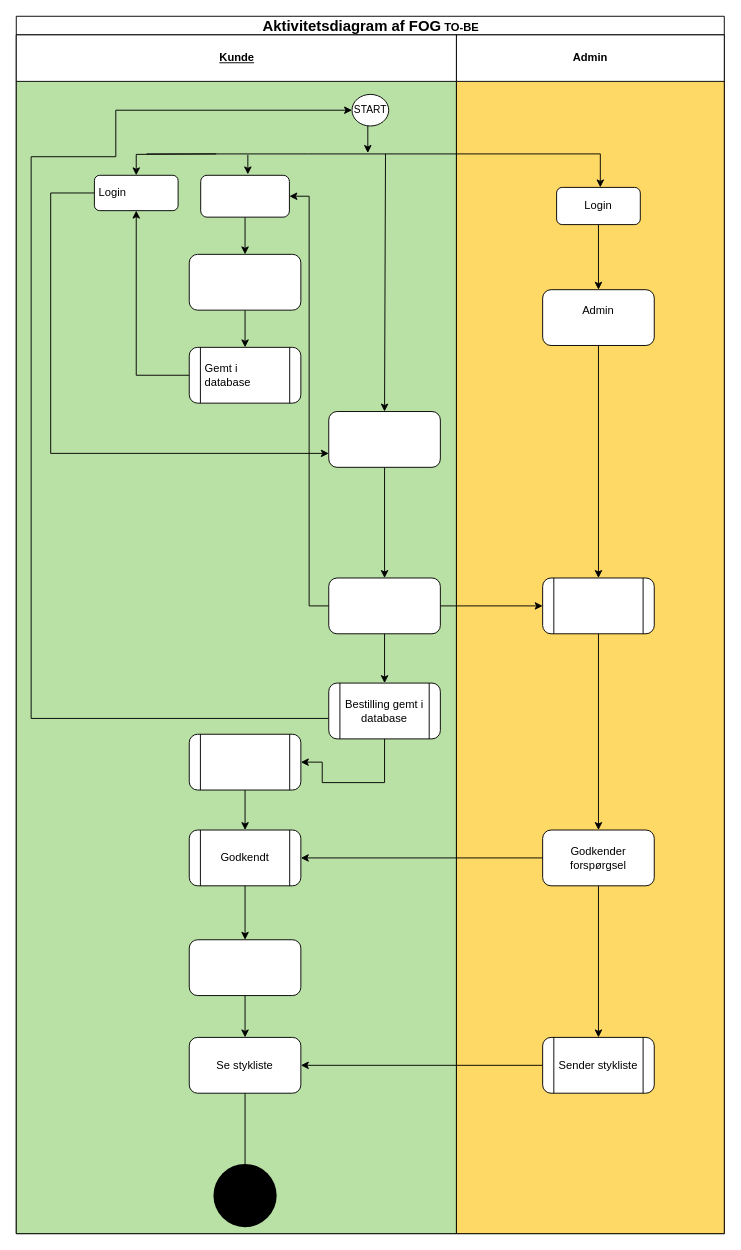
This 741x1250 diagram has some shape labels left out. The shapes that lost their labels are listed below. From the top down, each one's box as (x1, y1, x2, y2) in pixels, then its label:
(200, 174, 289, 217): Opret bruger
(188, 253, 301, 310): udfyld kontaktoplysninger
(328, 411, 440, 467): Vælg Carport dimensioner
(328, 577, 440, 634): Lav bestilling/forspørgsel
(542, 577, 654, 634): Modtager forspørgsel
(188, 733, 301, 790): Gemt på "Min Side" Afventer godkendelse
(188, 939, 301, 996): Betal
